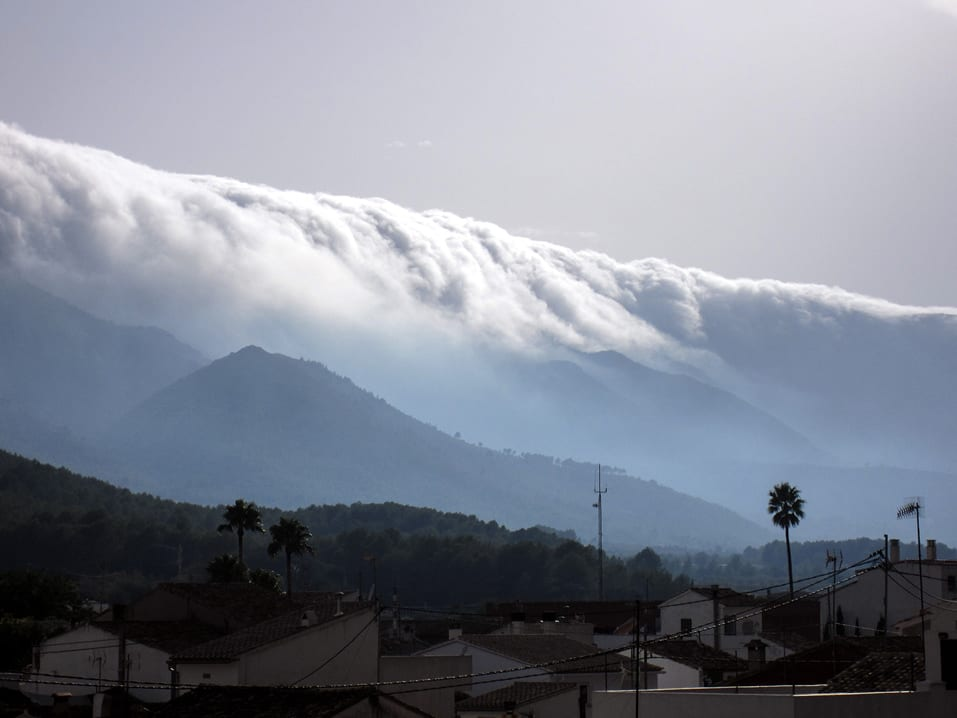Stratus: (9, 121, 957, 433)
